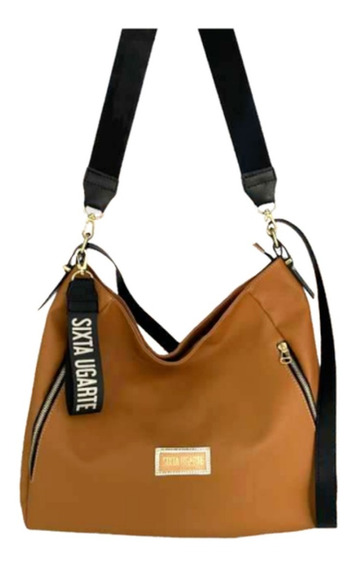cartera: (21, 24, 345, 551)
cuero: (19, 22, 343, 549)
